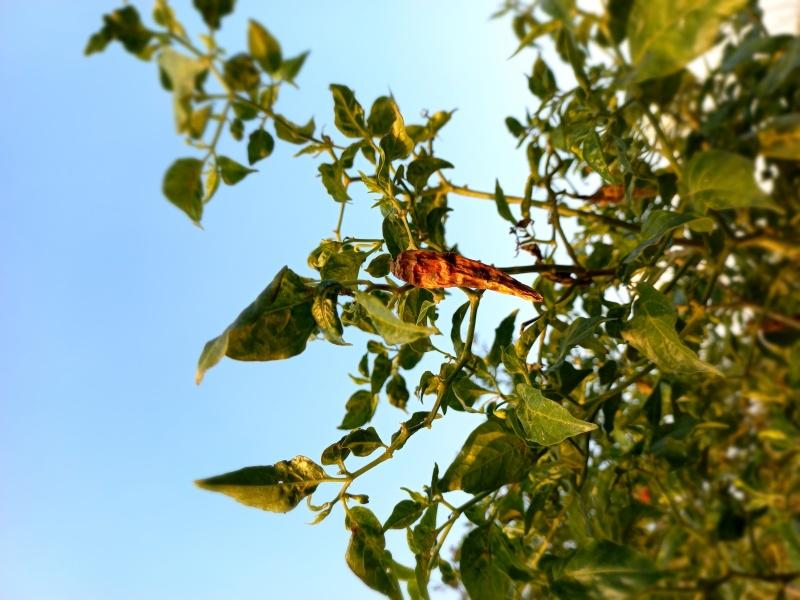antraknosa: (387, 238, 547, 318)
